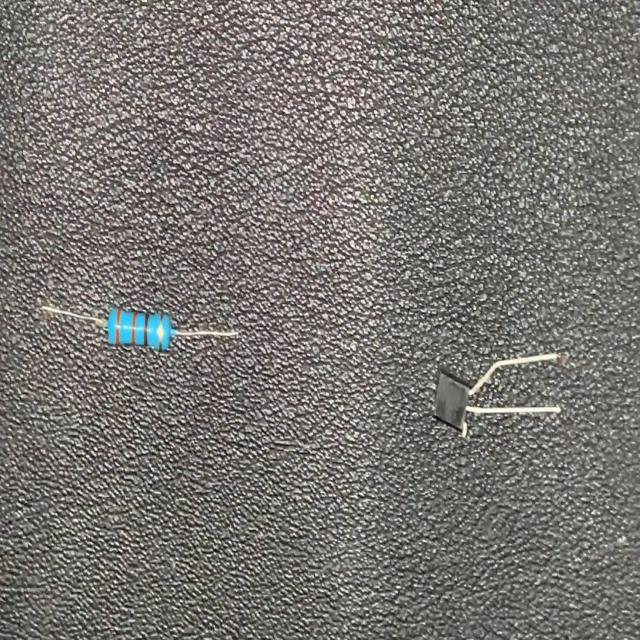missing-leg: (433, 350, 562, 442)
resistor: (41, 298, 240, 353)
